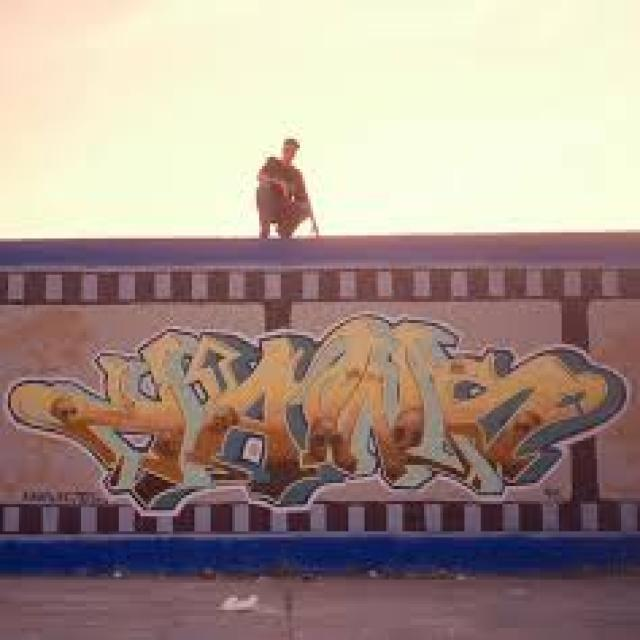-: (8, 313, 629, 516)
